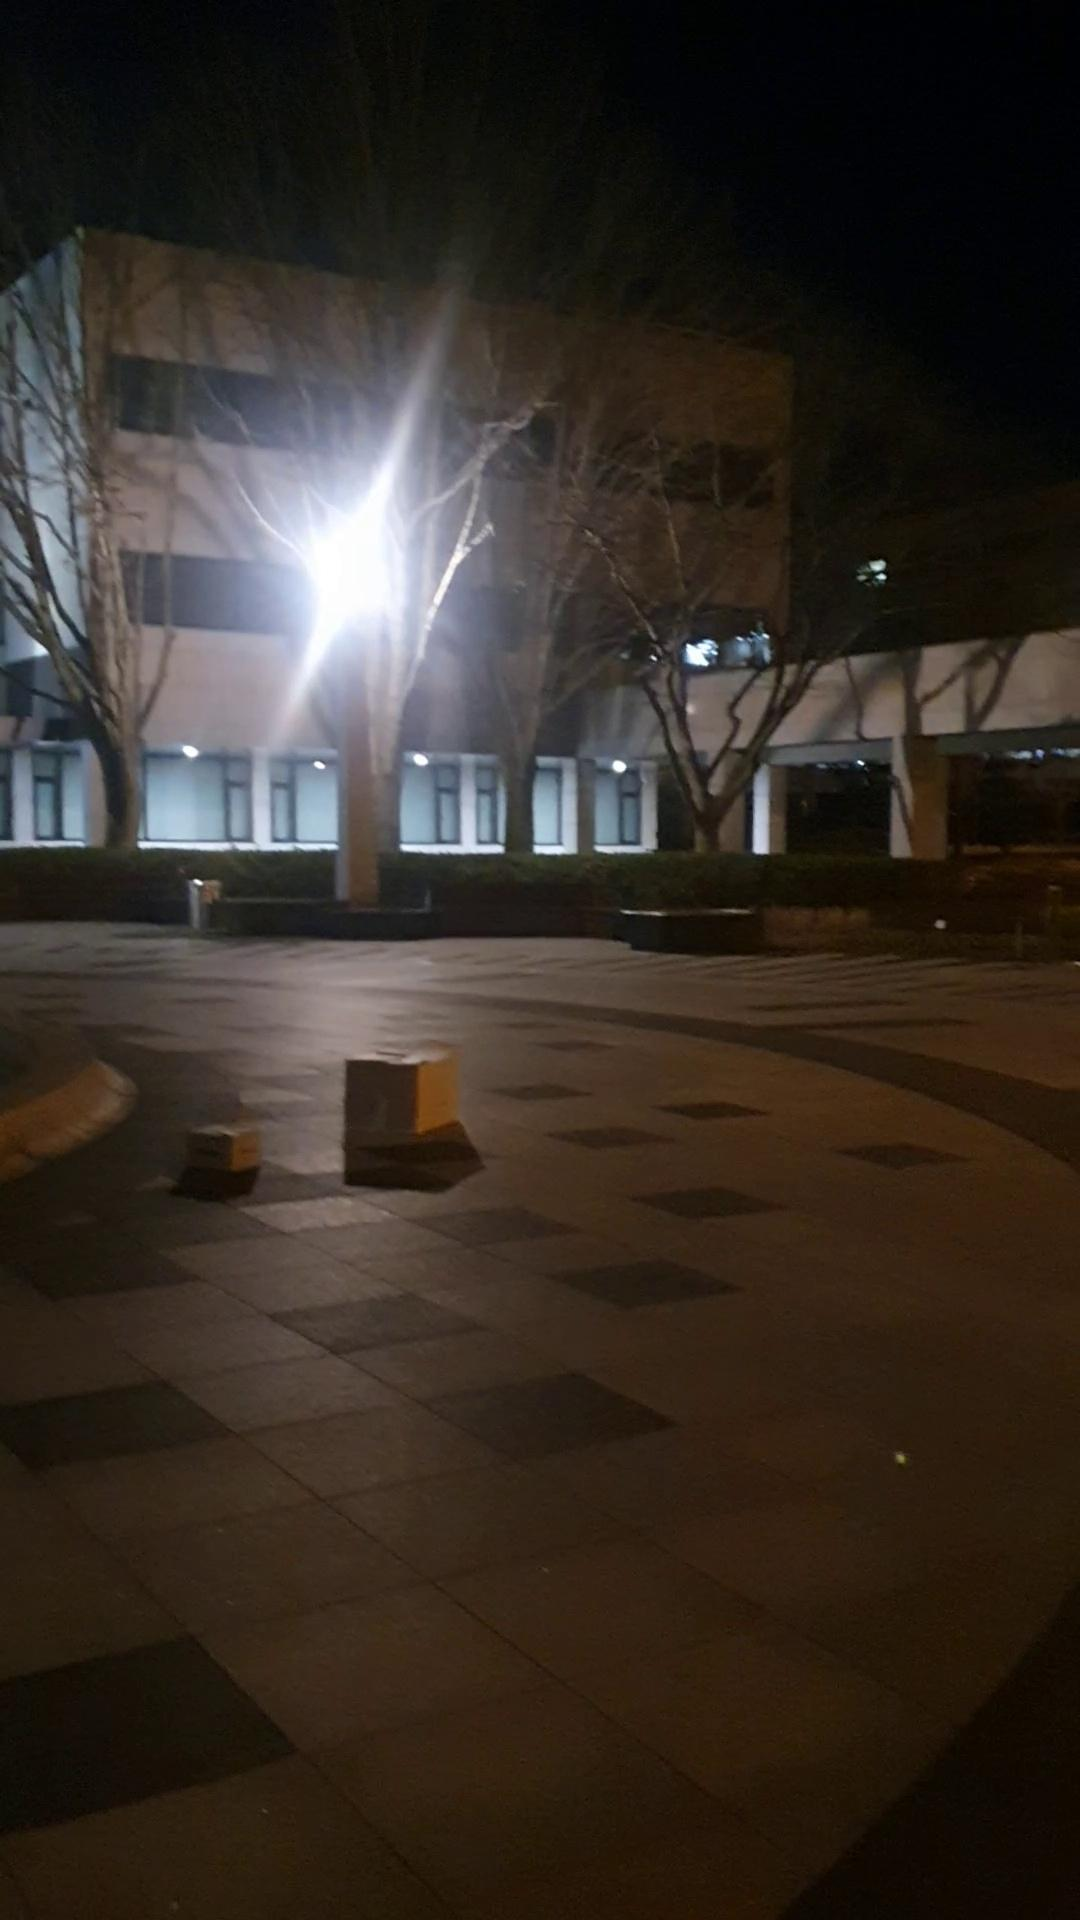Box: (338, 1030, 465, 1150), (171, 1110, 268, 1180)
